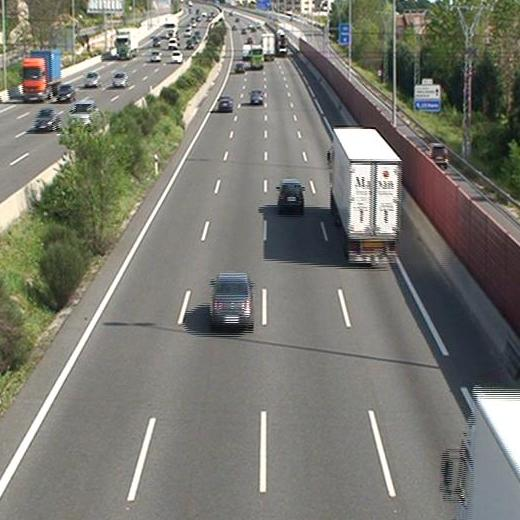bus: (250, 48, 265, 69)
car: (210, 273, 253, 328), (277, 179, 305, 213), (218, 96, 232, 111), (250, 90, 264, 104), (234, 62, 244, 71)
truck: (330, 128, 400, 262)
